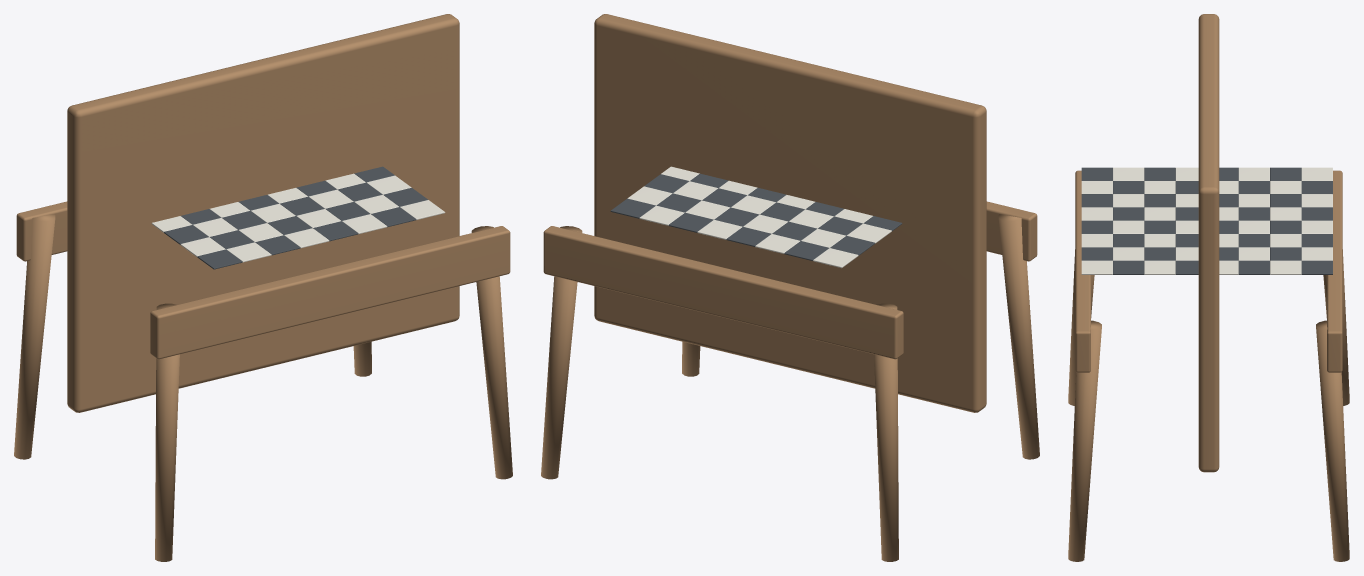
The model's file is atelier-chess-table.glb.
3 renders of one model, left to right at view 1: azimuth 30°, elevation 25°; view 2: azimuth 150°, elevation 25°; view 3: azimuth 270°, elevation 25°, orthographic. The views are drawn at different scales.
Parts seen in each view (by area): view 1: legs.232, metal.199, ceramic.153; view 2: legs.232, ceramic.153, metal.199; view 3: legs.232, metal.199, ceramic.153.
Part boxes in pixels (x1,y1,x2,y2): legs.232: [14, 14, 512, 561]; metal.199: [164, 166, 427, 269]; ceramic.153: [151, 173, 445, 262]; legs.232: [541, 14, 1039, 561]; ceramic.153: [627, 166, 891, 268]; metal.199: [610, 173, 902, 260]; legs.232: [1068, 14, 1349, 561]; metal.199: [1081, 167, 1332, 274]; ceramic.153: [1081, 167, 1332, 274].
Bounding box in the file's own units: 1.2 × 1.2 × 0.8063.
